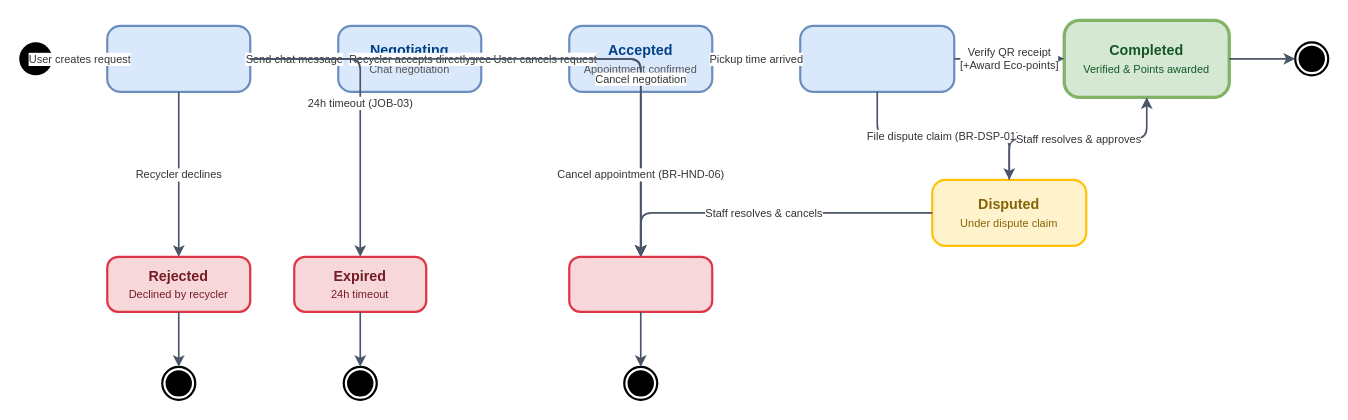
The diagram is 1348 pixels wide and 420 high, and some of its shapes have lost their labels. Each missing label, with the centre of its shape:
"Cancelled Order cancelled" goes at [640,283].
"Pending Awaiting acceptance" goes at [178,58].
"Scheduled Pickup in progress" goes at [877,58].
